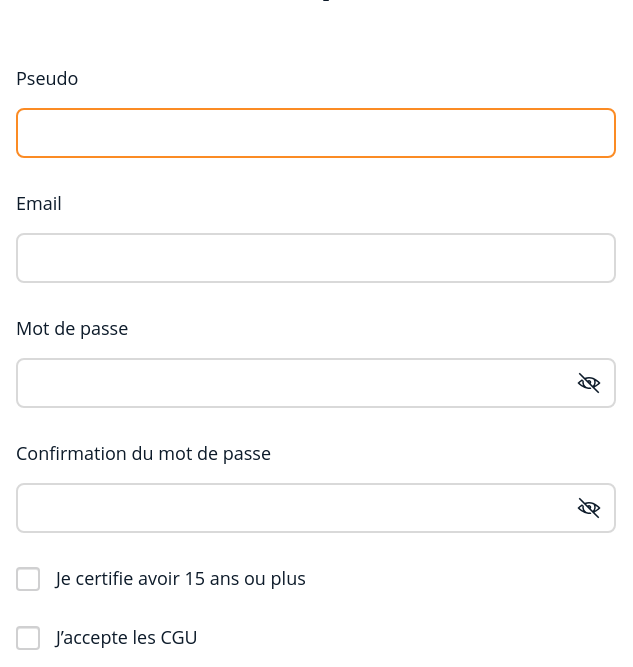
it: Signup Form › should not submit if the Pseudo is shorter than 3 characters
Step 1. Type "Jo" into the field labelled "Pseudo" → (316, 133), box [16, 108, 616, 158]
(page scrolled)
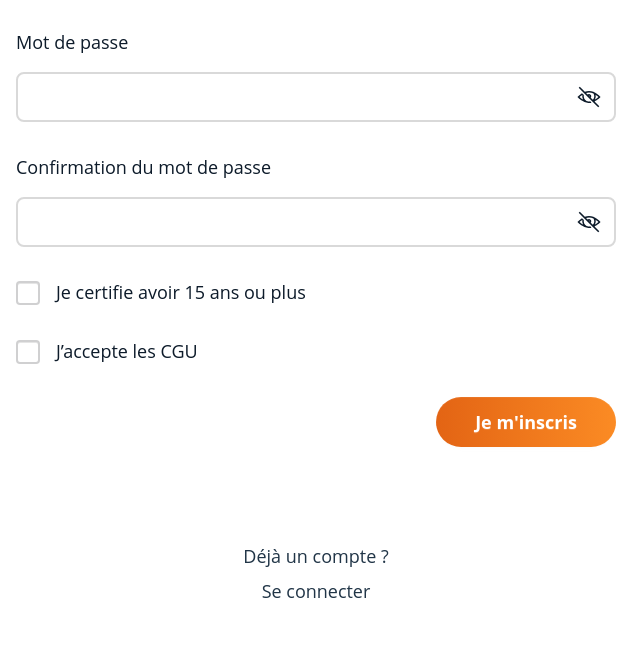
Step 2. Click the button "Je m'inscris" → (526, 422), box [436, 397, 616, 447]
(page scrolled)
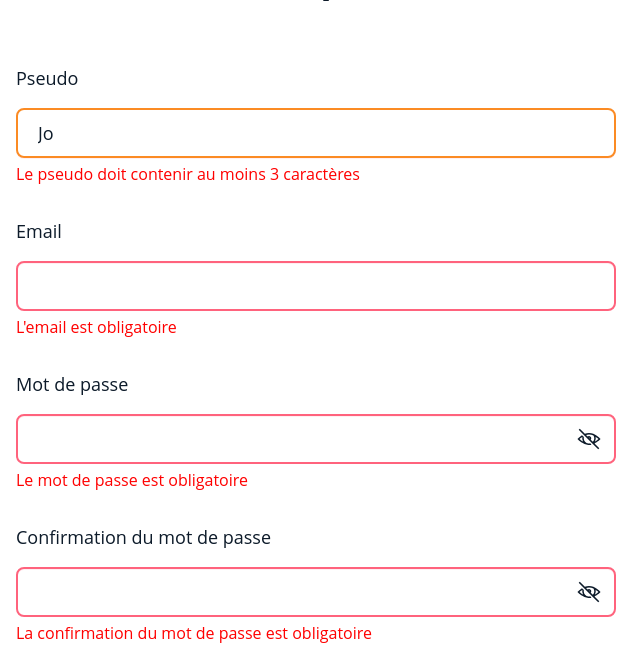
Check: the message "Le pseudo doit contenir au moins 3 caractères" is shown, box [16, 163, 360, 185]
